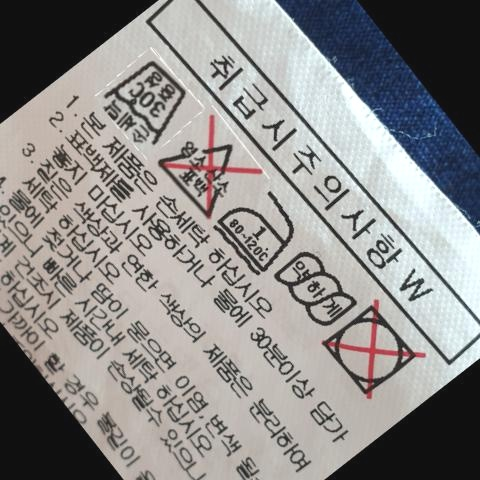DN_bleach: (162, 125, 246, 211)
DN_tumble_dry: (327, 309, 422, 397)
hand_wash: (106, 65, 188, 146)
iron_low: (222, 195, 300, 269)
wring: (279, 256, 360, 321)
